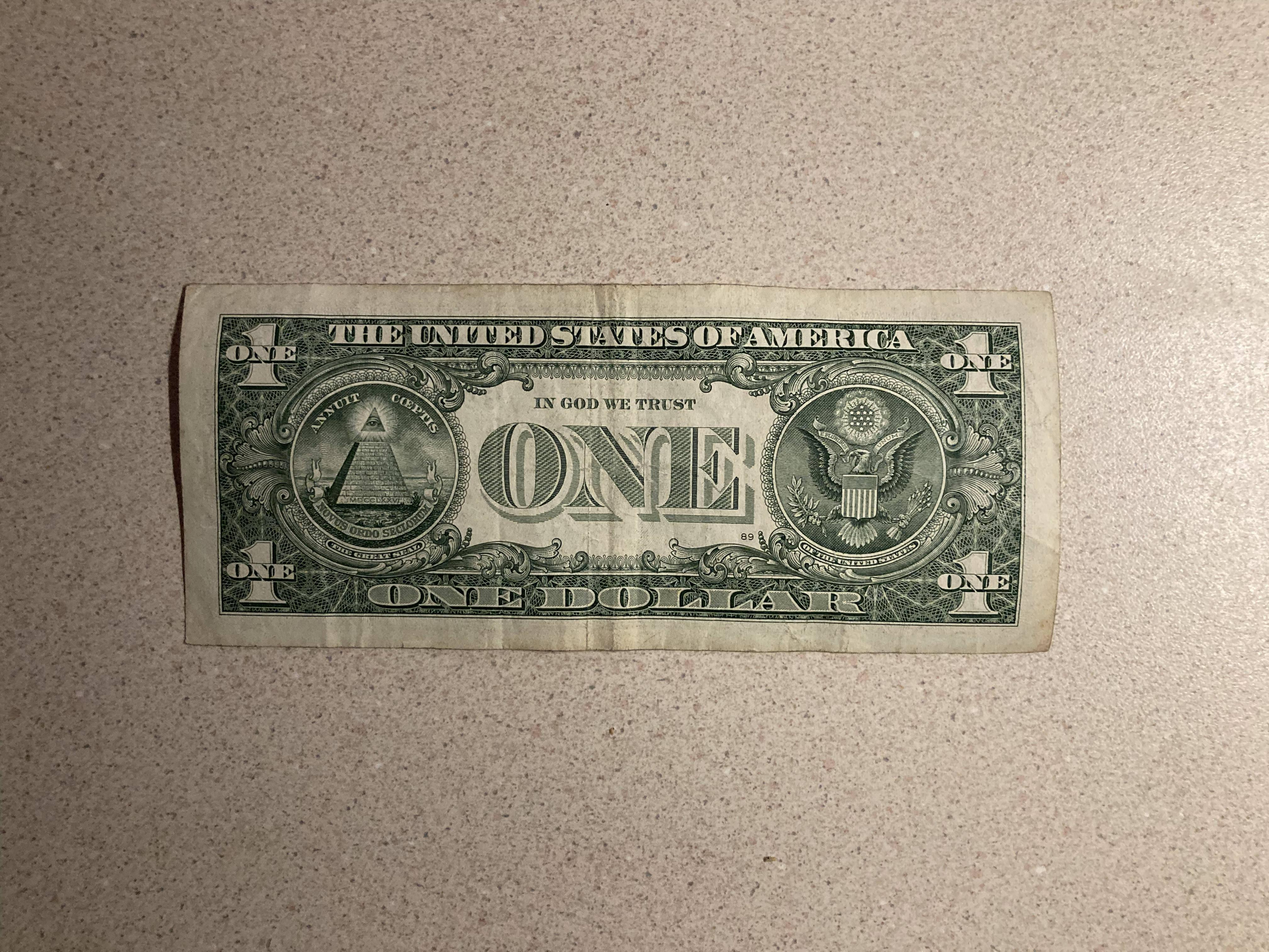one-back: (180, 280, 1059, 655)
